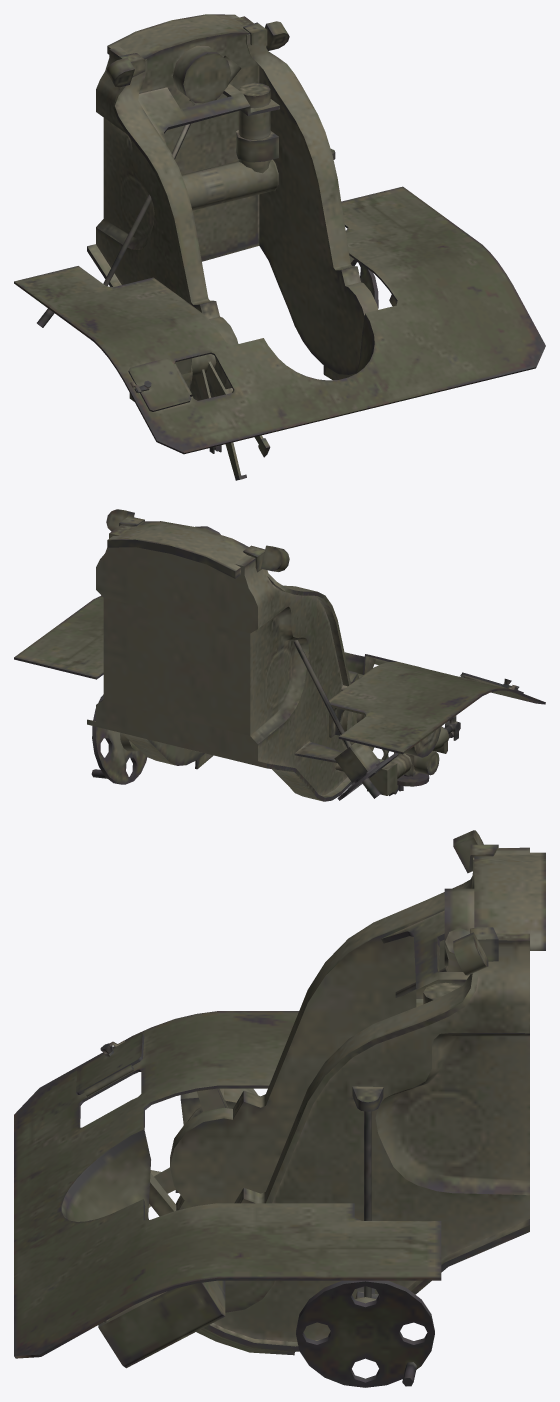
Rendered from Turret_01.glb.
The picture shows the model from 3 angles, top to bottom: view 1: azimuth 30°, elevation 25°; view 2: azimuth 150°, elevation 25°; view 3: azimuth 270°, elevation 25°; orthographic projection. The views are drawn at different scales.
Visible parts, largest first — view 1: set_0_group_0; view 2: set_0_group_0; view 3: set_0_group_0.
Part boxes in pixels (<box>): set_0_group_0: <box>14,14,545,480</box>; set_0_group_0: <box>14,509,545,801</box>; set_0_group_0: <box>14,830,545,1387</box>.
Bounding box in the file's own units: 1.62 × 1.34 × 1.37.
Materials: 1 (1 with a texture image).
